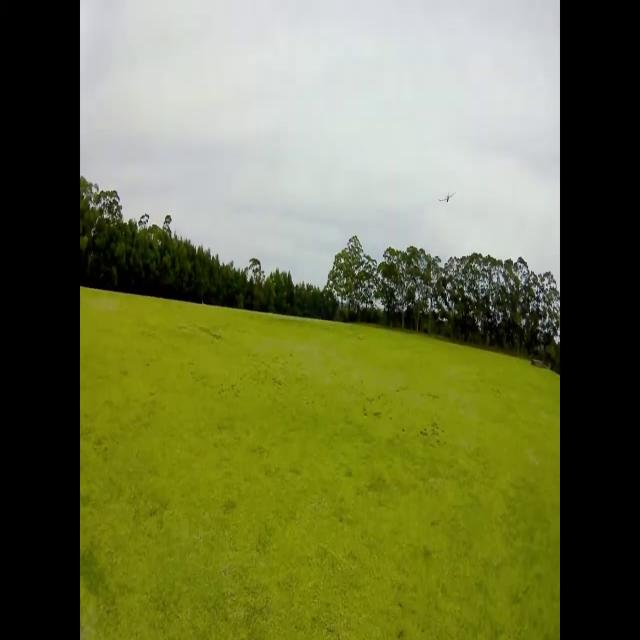iha: (439, 186, 458, 199)
